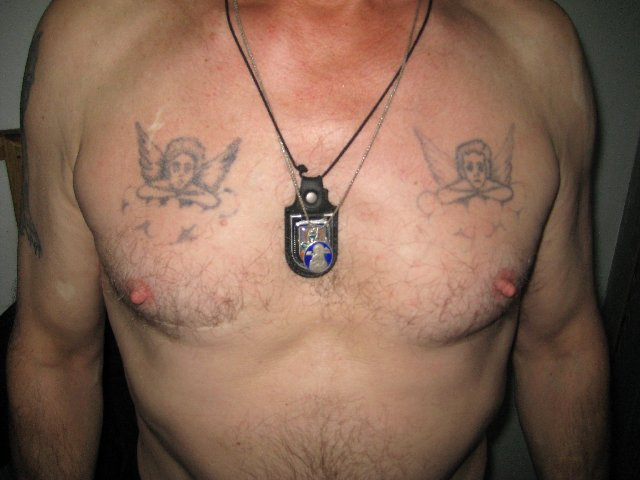tatu1_angel: (125, 113, 244, 220), (405, 120, 531, 214)
